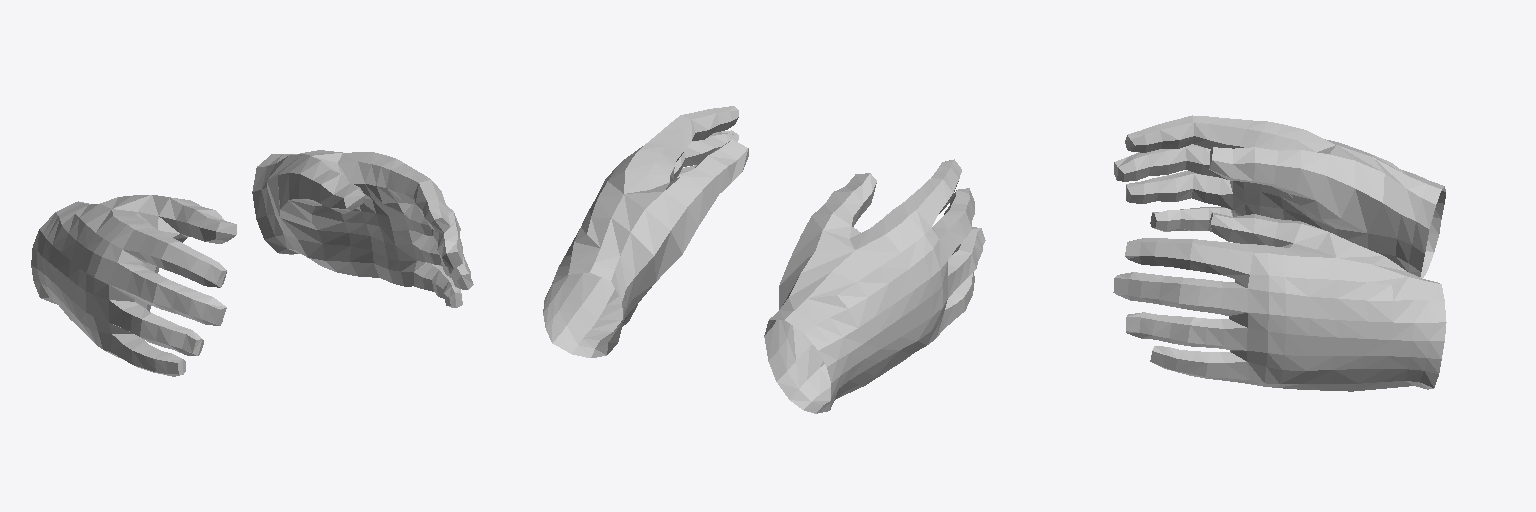
The model's file is male_hands.obj.
3 renders of one model, left to right at view 1: azimuth 30°, elevation 25°; view 2: azimuth 150°, elevation 25°; view 3: azimuth 270°, elevation 25°, orthographic.
Visible parts, largest first — view 1: BothHands; view 2: BothHands; view 3: BothHands.
Boxes of the visible parts, box(x1,y1,x2,y2) form: BothHands: box(31, 150, 473, 376); BothHands: box(543, 106, 985, 413); BothHands: box(1113, 115, 1446, 391).
Bounding box in the file's own units: 2.5 × 1.08 × 2.13.